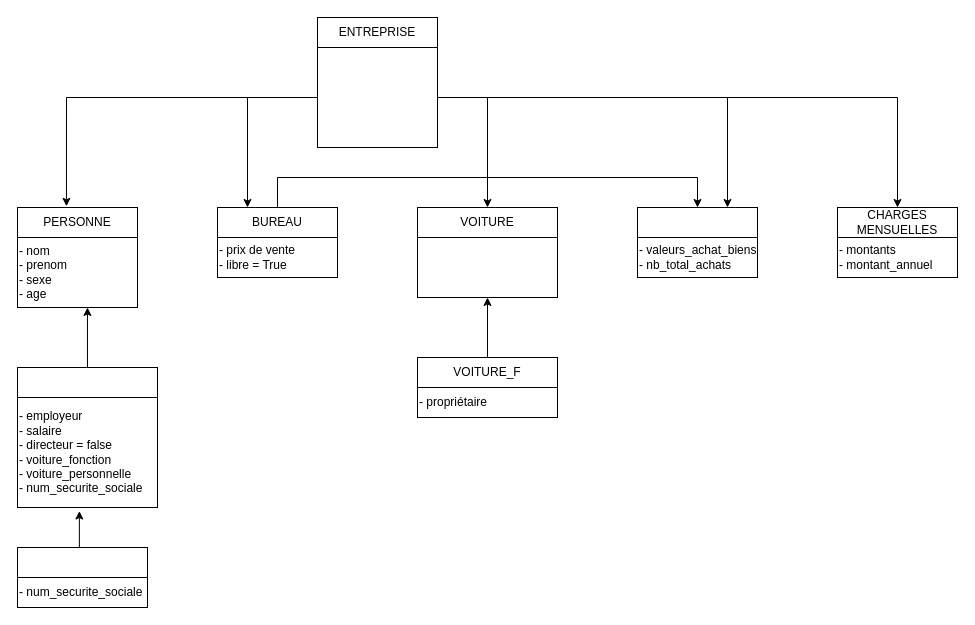
The diagram is 975 pixels wide and 625 high, and some of its shapes have lost their labels. The centre of each missing label's shape, as x and y in pixels:
- nom - salaries - directeur - bureaux - voitures_fonction - CA_mensuel: the point at 377,97
- prix de vente - proprietaire - coût_entretien_mensuel: the point at 487,267
ACHATS: the point at 697,222
DIRECTEUR: the point at 82,562
SALARIE: the point at 87,382
